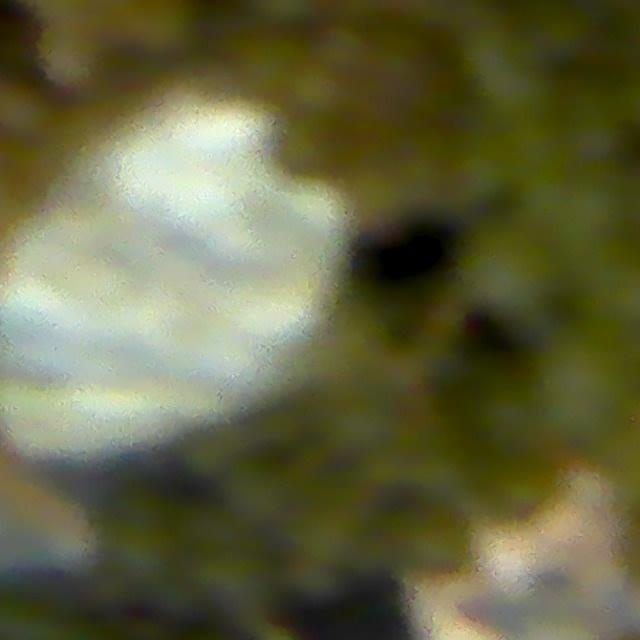SeaGrape: (461, 204, 569, 328), (534, 328, 636, 442), (551, 175, 628, 254), (476, 386, 543, 457), (563, 109, 626, 171), (288, 63, 350, 124)
